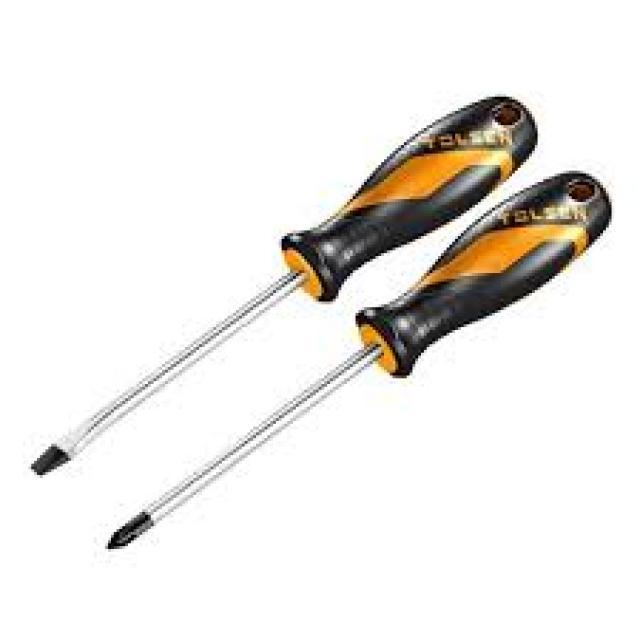screwdriver: (28, 91, 543, 483), (102, 164, 618, 555)
